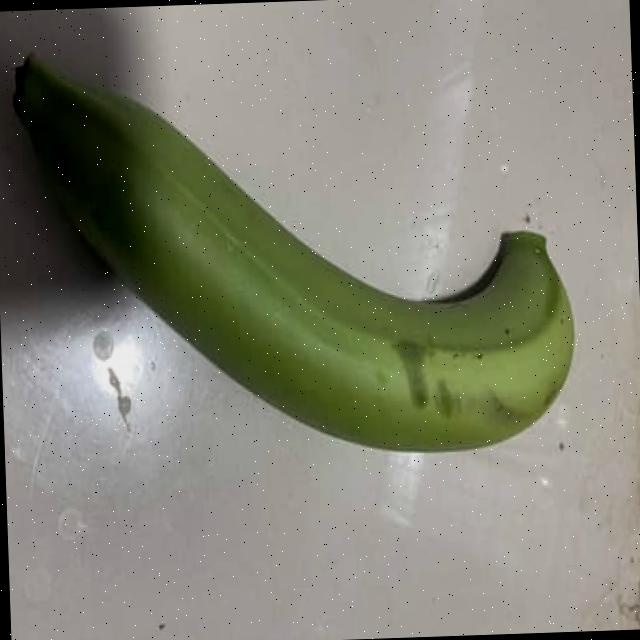Raw: (0, 18, 593, 497)
